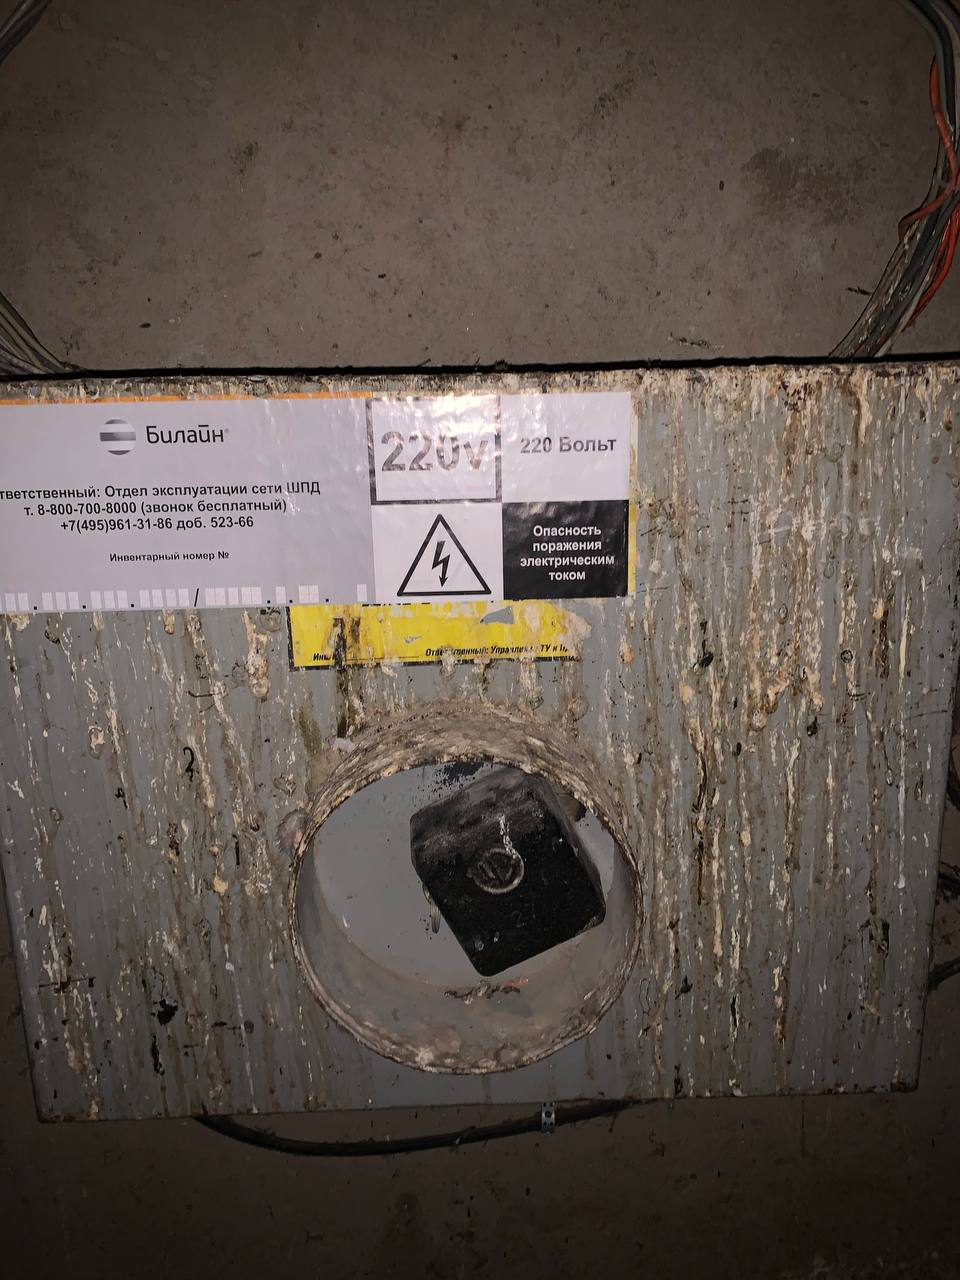shta-3: (8, 354, 953, 1130)
